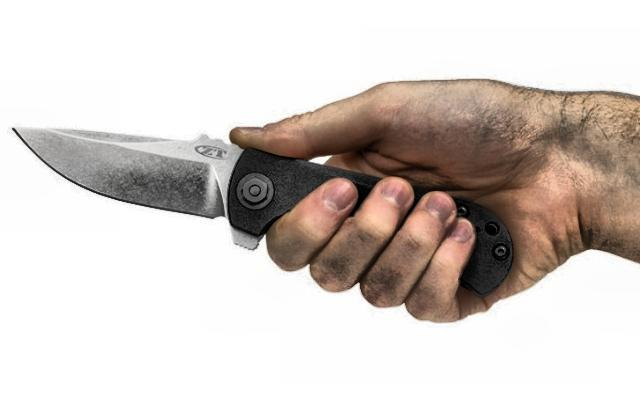knife: (0, 108, 418, 300)
